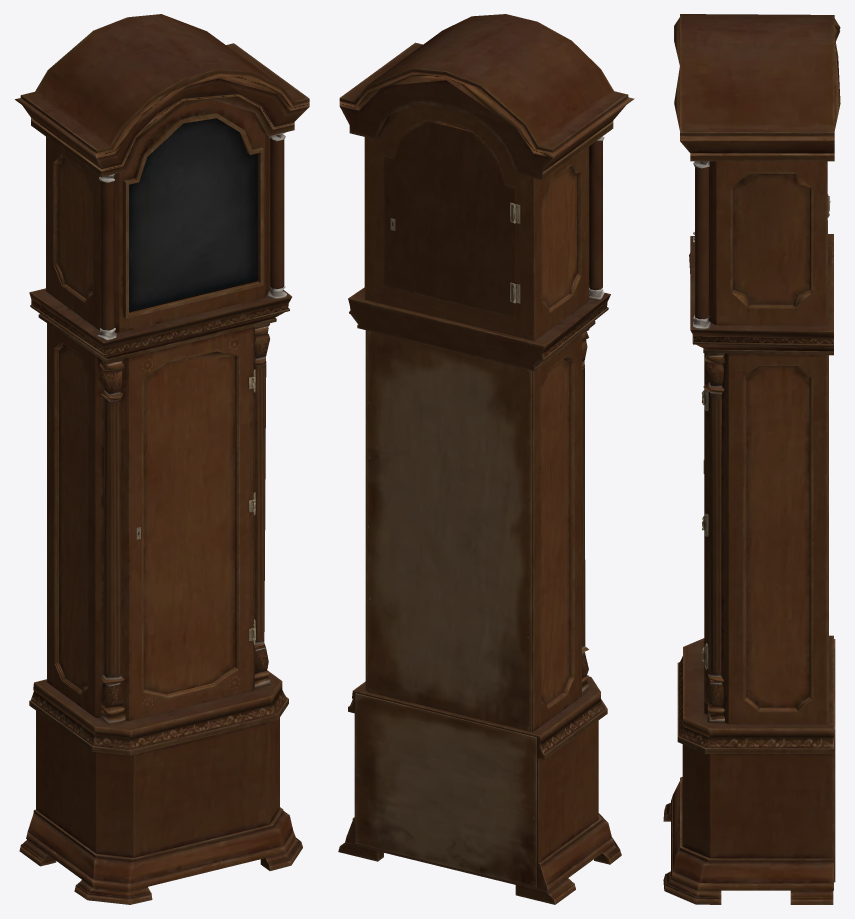
Rendered from vintage_grandfather_clock_01.glb.
3 views of the same model, side by side, from view 1: azimuth 30°, elevation 25°; view 2: azimuth 150°, elevation 25°; view 3: azimuth 270°, elevation 25° (orthographic). The views are drawn at different scales.
Visible parts, largest first — view 1: vintage_grandfather_clock_01_Body; view 2: vintage_grandfather_clock_01_Body; view 3: vintage_grandfather_clock_01_Body.
Boxes of the visible parts, x1,y1,x2,y2 form: vintage_grandfather_clock_01_Body: (15,14,309,904); vintage_grandfather_clock_01_Body: (338,14,634,904); vintage_grandfather_clock_01_Body: (663,14,840,904).
Bounding box in the file's own units: 0.6212 × 2.19 × 0.4266.
2 materials, 2 textured.
